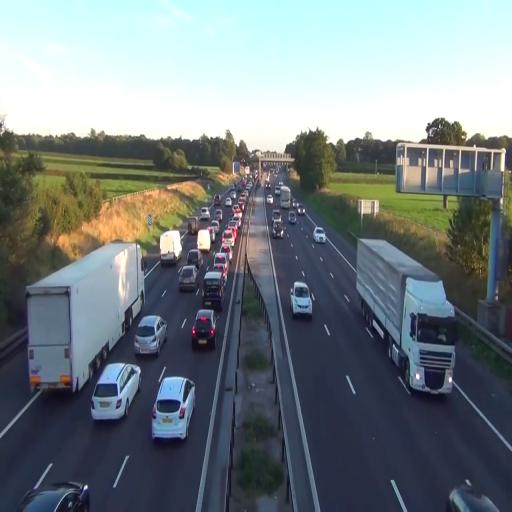vehicle: (25, 240, 145, 396), (356, 238, 457, 396), (17, 464, 91, 510), (90, 362, 142, 422), (151, 374, 196, 442), (448, 479, 500, 512), (133, 314, 168, 356), (191, 307, 217, 349), (201, 270, 224, 312), (290, 280, 313, 320), (160, 229, 182, 266), (178, 265, 198, 293), (271, 214, 284, 238), (314, 227, 326, 244), (287, 208, 298, 225)
